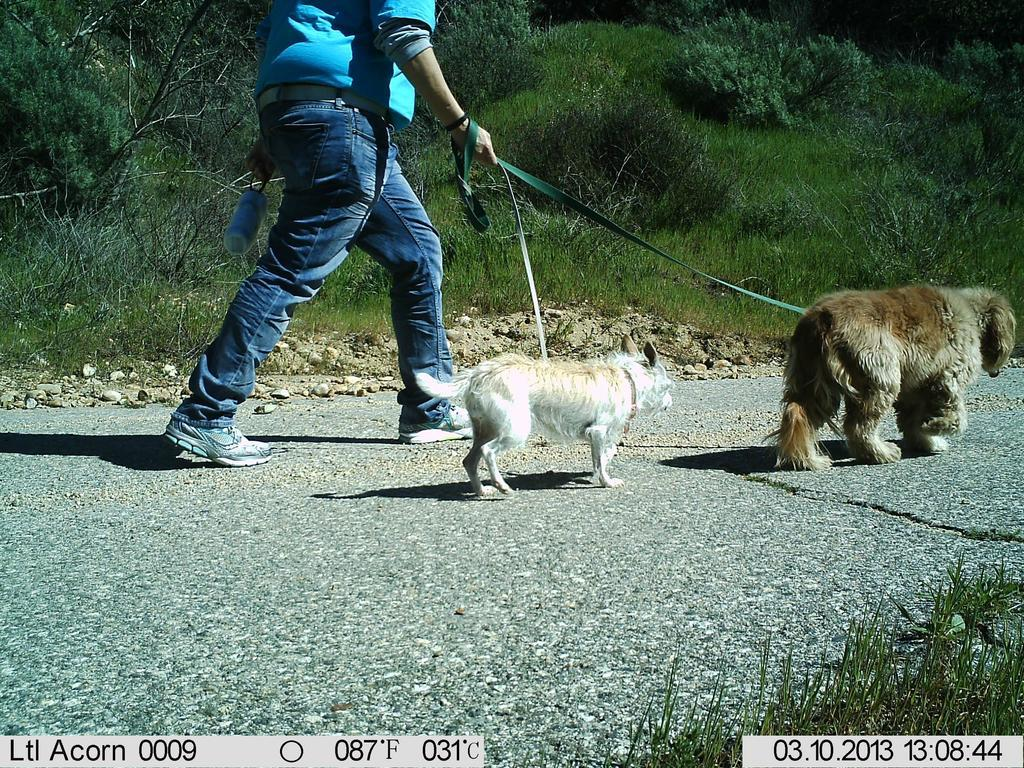dog: (767, 274, 1021, 474), (410, 328, 687, 503)
